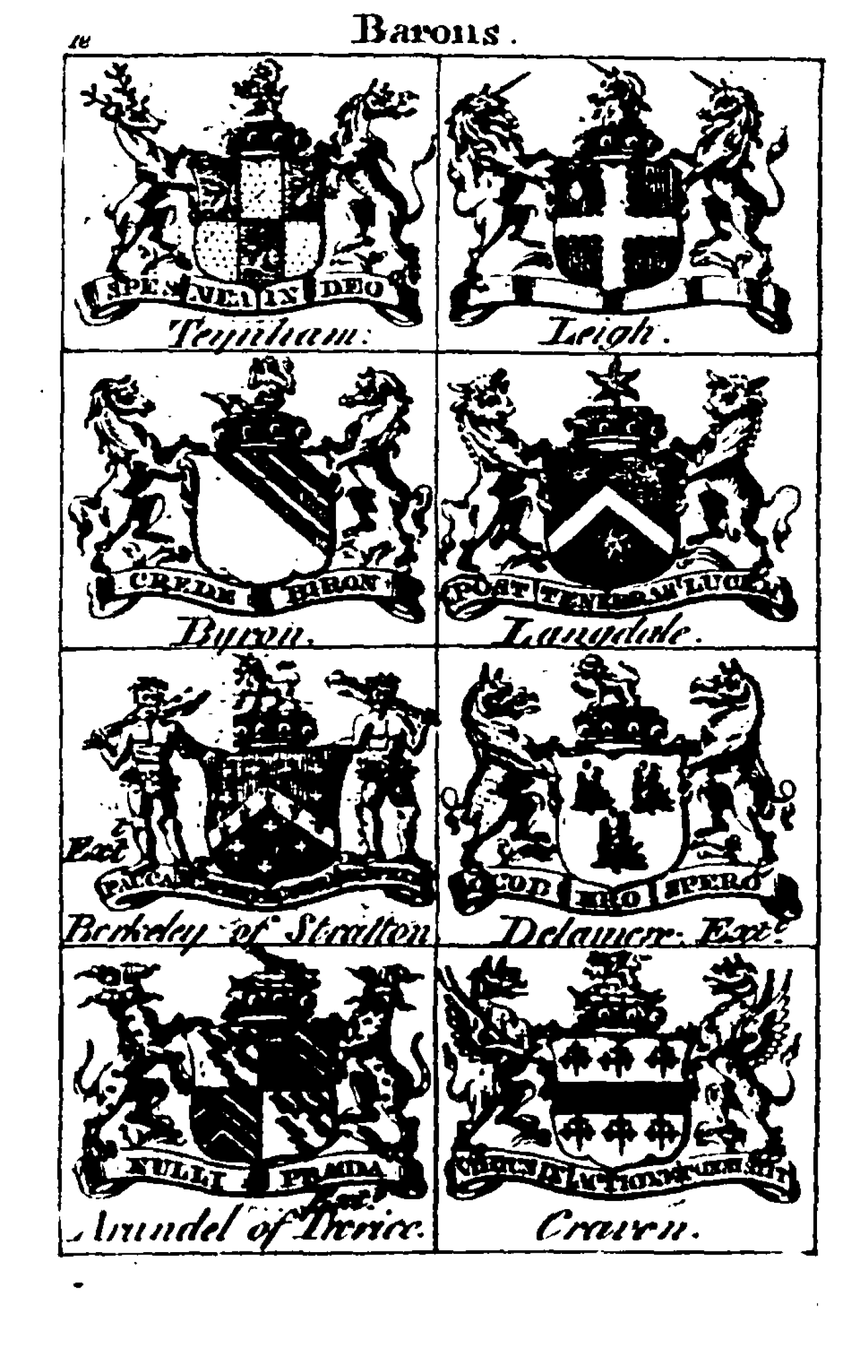coat_of_arms: (64, 57, 432, 352), (66, 655, 432, 950), (68, 949, 433, 1242), (445, 655, 807, 947), (450, 367, 816, 650), (444, 961, 805, 1244), (445, 60, 796, 349), (79, 362, 431, 643)
